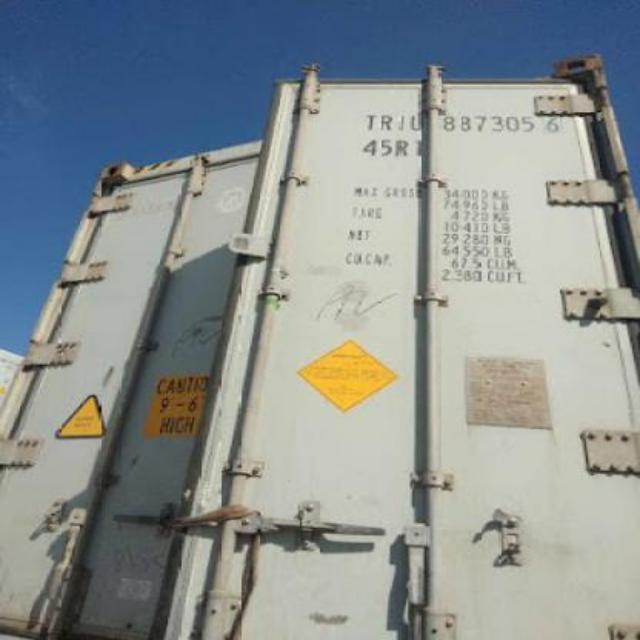0: (504, 109, 520, 141)
3: (486, 108, 504, 140)
5: (520, 108, 538, 140)
6: (542, 112, 562, 136)
7: (472, 108, 488, 138)
8: (456, 112, 474, 136), (440, 112, 456, 134)
I: (394, 105, 408, 134)
R: (376, 102, 394, 134)
T: (358, 102, 378, 134)
U: (408, 106, 426, 136)
